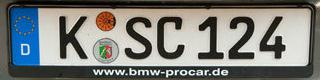1: (197, 15, 225, 61)
2: (228, 15, 257, 61)
4: (259, 14, 287, 60)
C: (155, 15, 186, 60)
K: (57, 13, 90, 61)
S: (123, 16, 153, 60)
